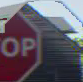Stop: (0, 9, 44, 80)
